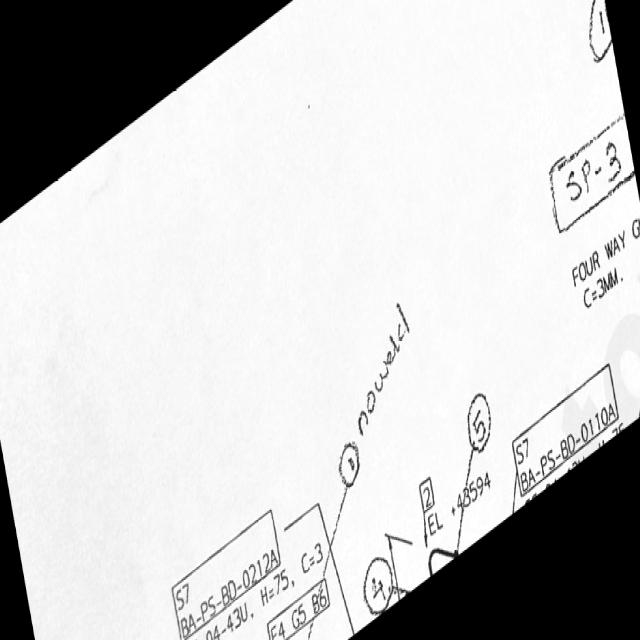Item number: (174, 503, 286, 639), (512, 394, 622, 503), (264, 572, 331, 639), (419, 473, 436, 515)
Measrement: (421, 468, 492, 543)
Weld number: (362, 552, 401, 619), (585, 1, 614, 67), (466, 388, 494, 455), (338, 437, 362, 490)
other: (568, 207, 639, 316)
